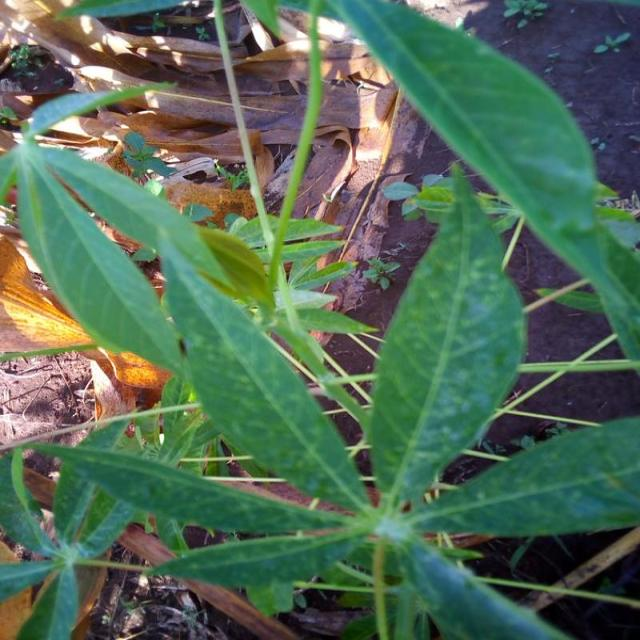cassava leaf: (1, 1, 638, 637), (368, 162, 528, 507)
